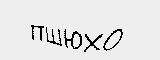О: (102, 28, 124, 53)
П: (29, 24, 44, 44)
Х: (81, 31, 103, 54)
Ш: (44, 27, 63, 46)
Ю: (64, 27, 82, 51)
